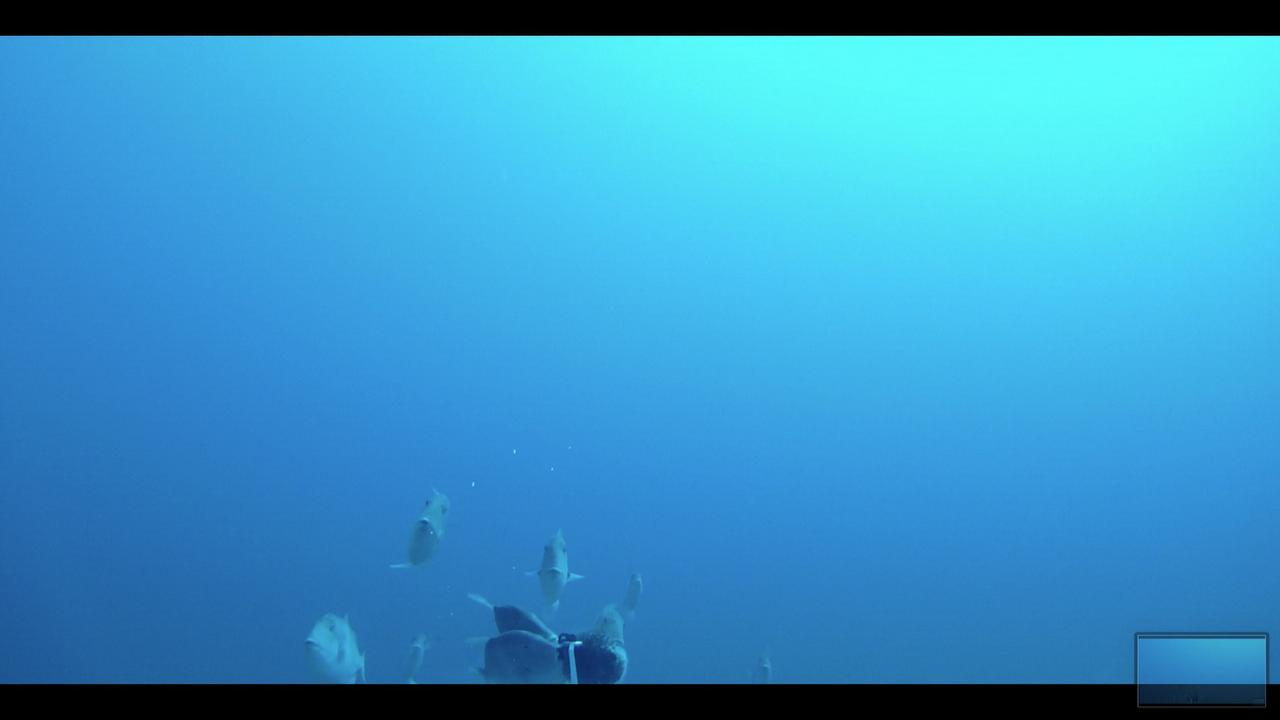balistes: (294, 602, 389, 685), (381, 482, 450, 582), (511, 523, 587, 611), (462, 628, 558, 679), (394, 624, 445, 681), (609, 562, 653, 618), (736, 646, 782, 683)
